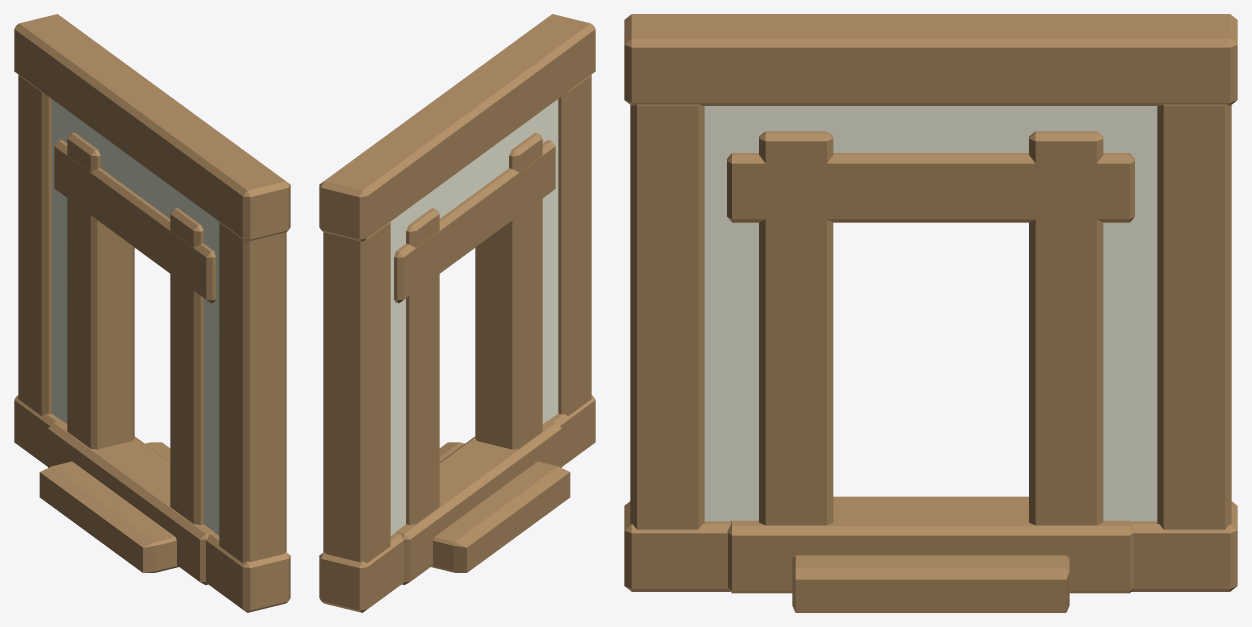
File: WallWithDoor_1.fbx
The picture shows the model from 3 angles, left to right: view 1: azimuth 30°, elevation 25°; view 2: azimuth 150°, elevation 25°; view 3: azimuth 270°, elevation 25°; orthographic projection. The views are drawn at different scales.
Parts seen in each view (by area): view 1: WallWithDoor; view 2: WallWithDoor; view 3: WallWithDoor.
Part boxes in pixels (<box>): WallWithDoor: <box>14,14,290,612</box>; WallWithDoor: <box>319,14,595,612</box>; WallWithDoor: <box>624,14,1237,612</box>.
Bounding box in the file's own units: 0.7016 × 2.32 × 2.33.
